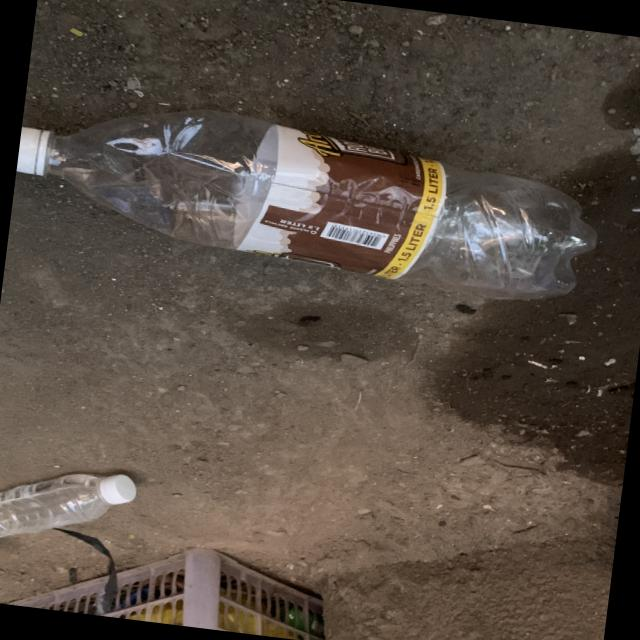Bottle: (16, 110, 596, 299)
